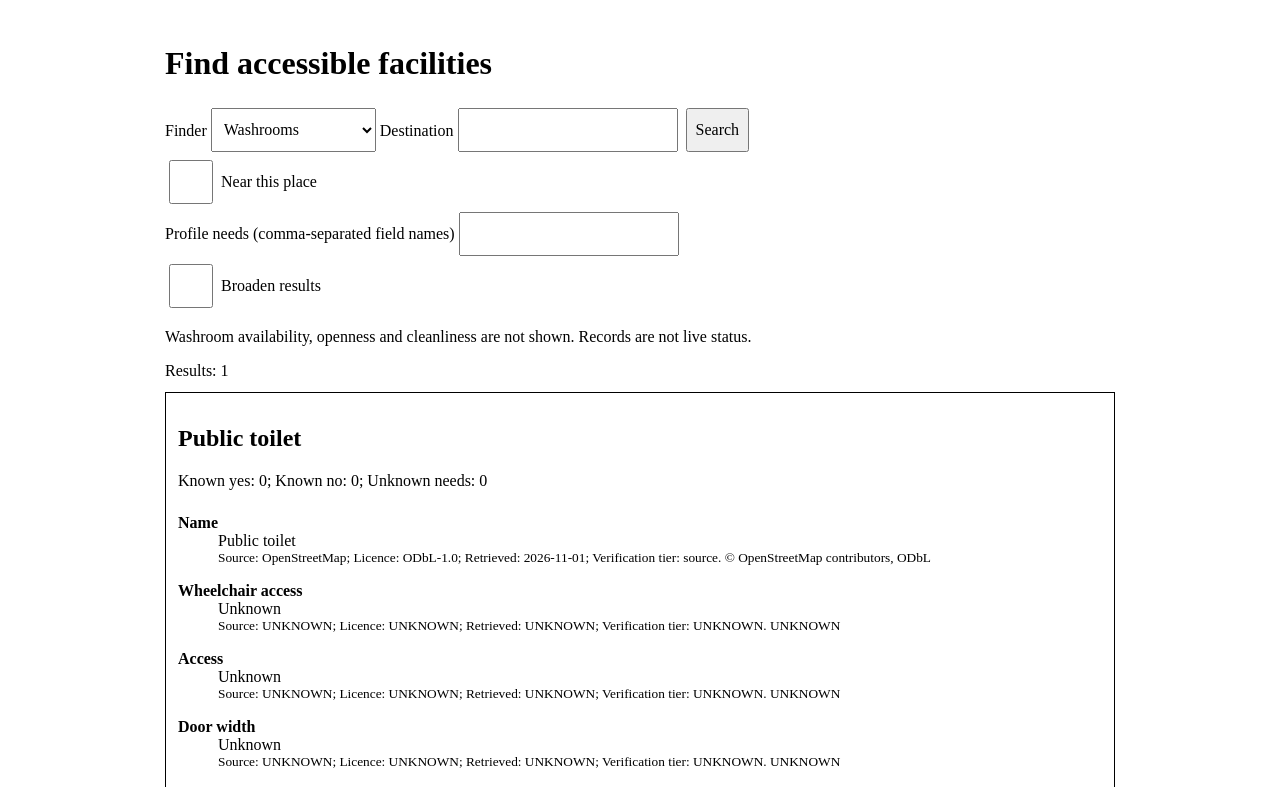
PackFindersPage honesty and labels › names known and unknown counts instead of Results: 0 when only the Unknown group is shown
Select "Changing tables" in the dropdown labelled "Finder" at (293, 130), box 211,108 -> 376,152
(page scrolled)
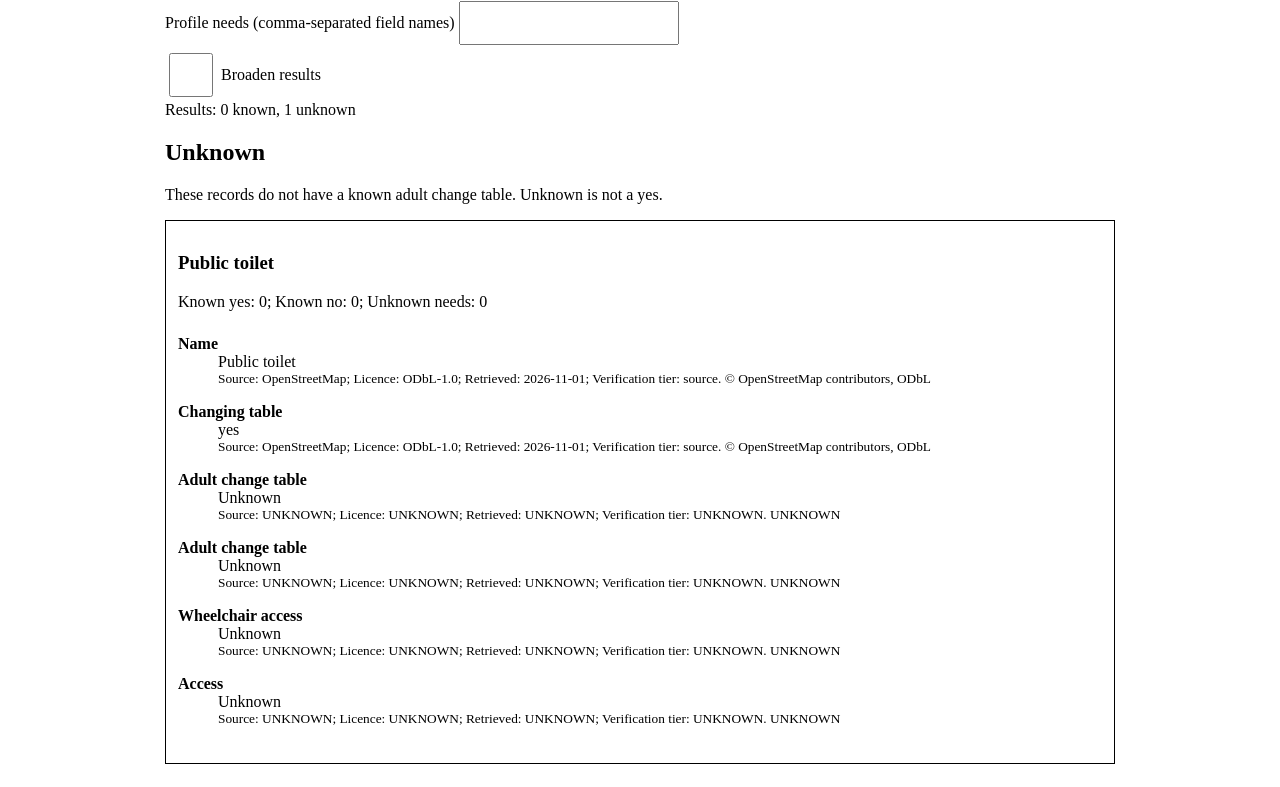
Expected: the message does not show "Results: 0", 165,101 -> 356,118
Expected: the message reads "Results: 0 known, 1 unknown", 165,101 -> 356,118
Expected: the element "Unknown" is shown, 165,139 -> 1115,764
